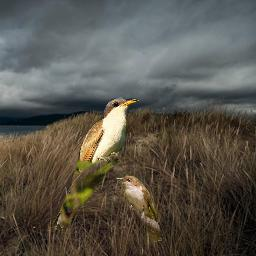Cuckoo: (50, 95, 141, 233), (115, 174, 162, 242)
